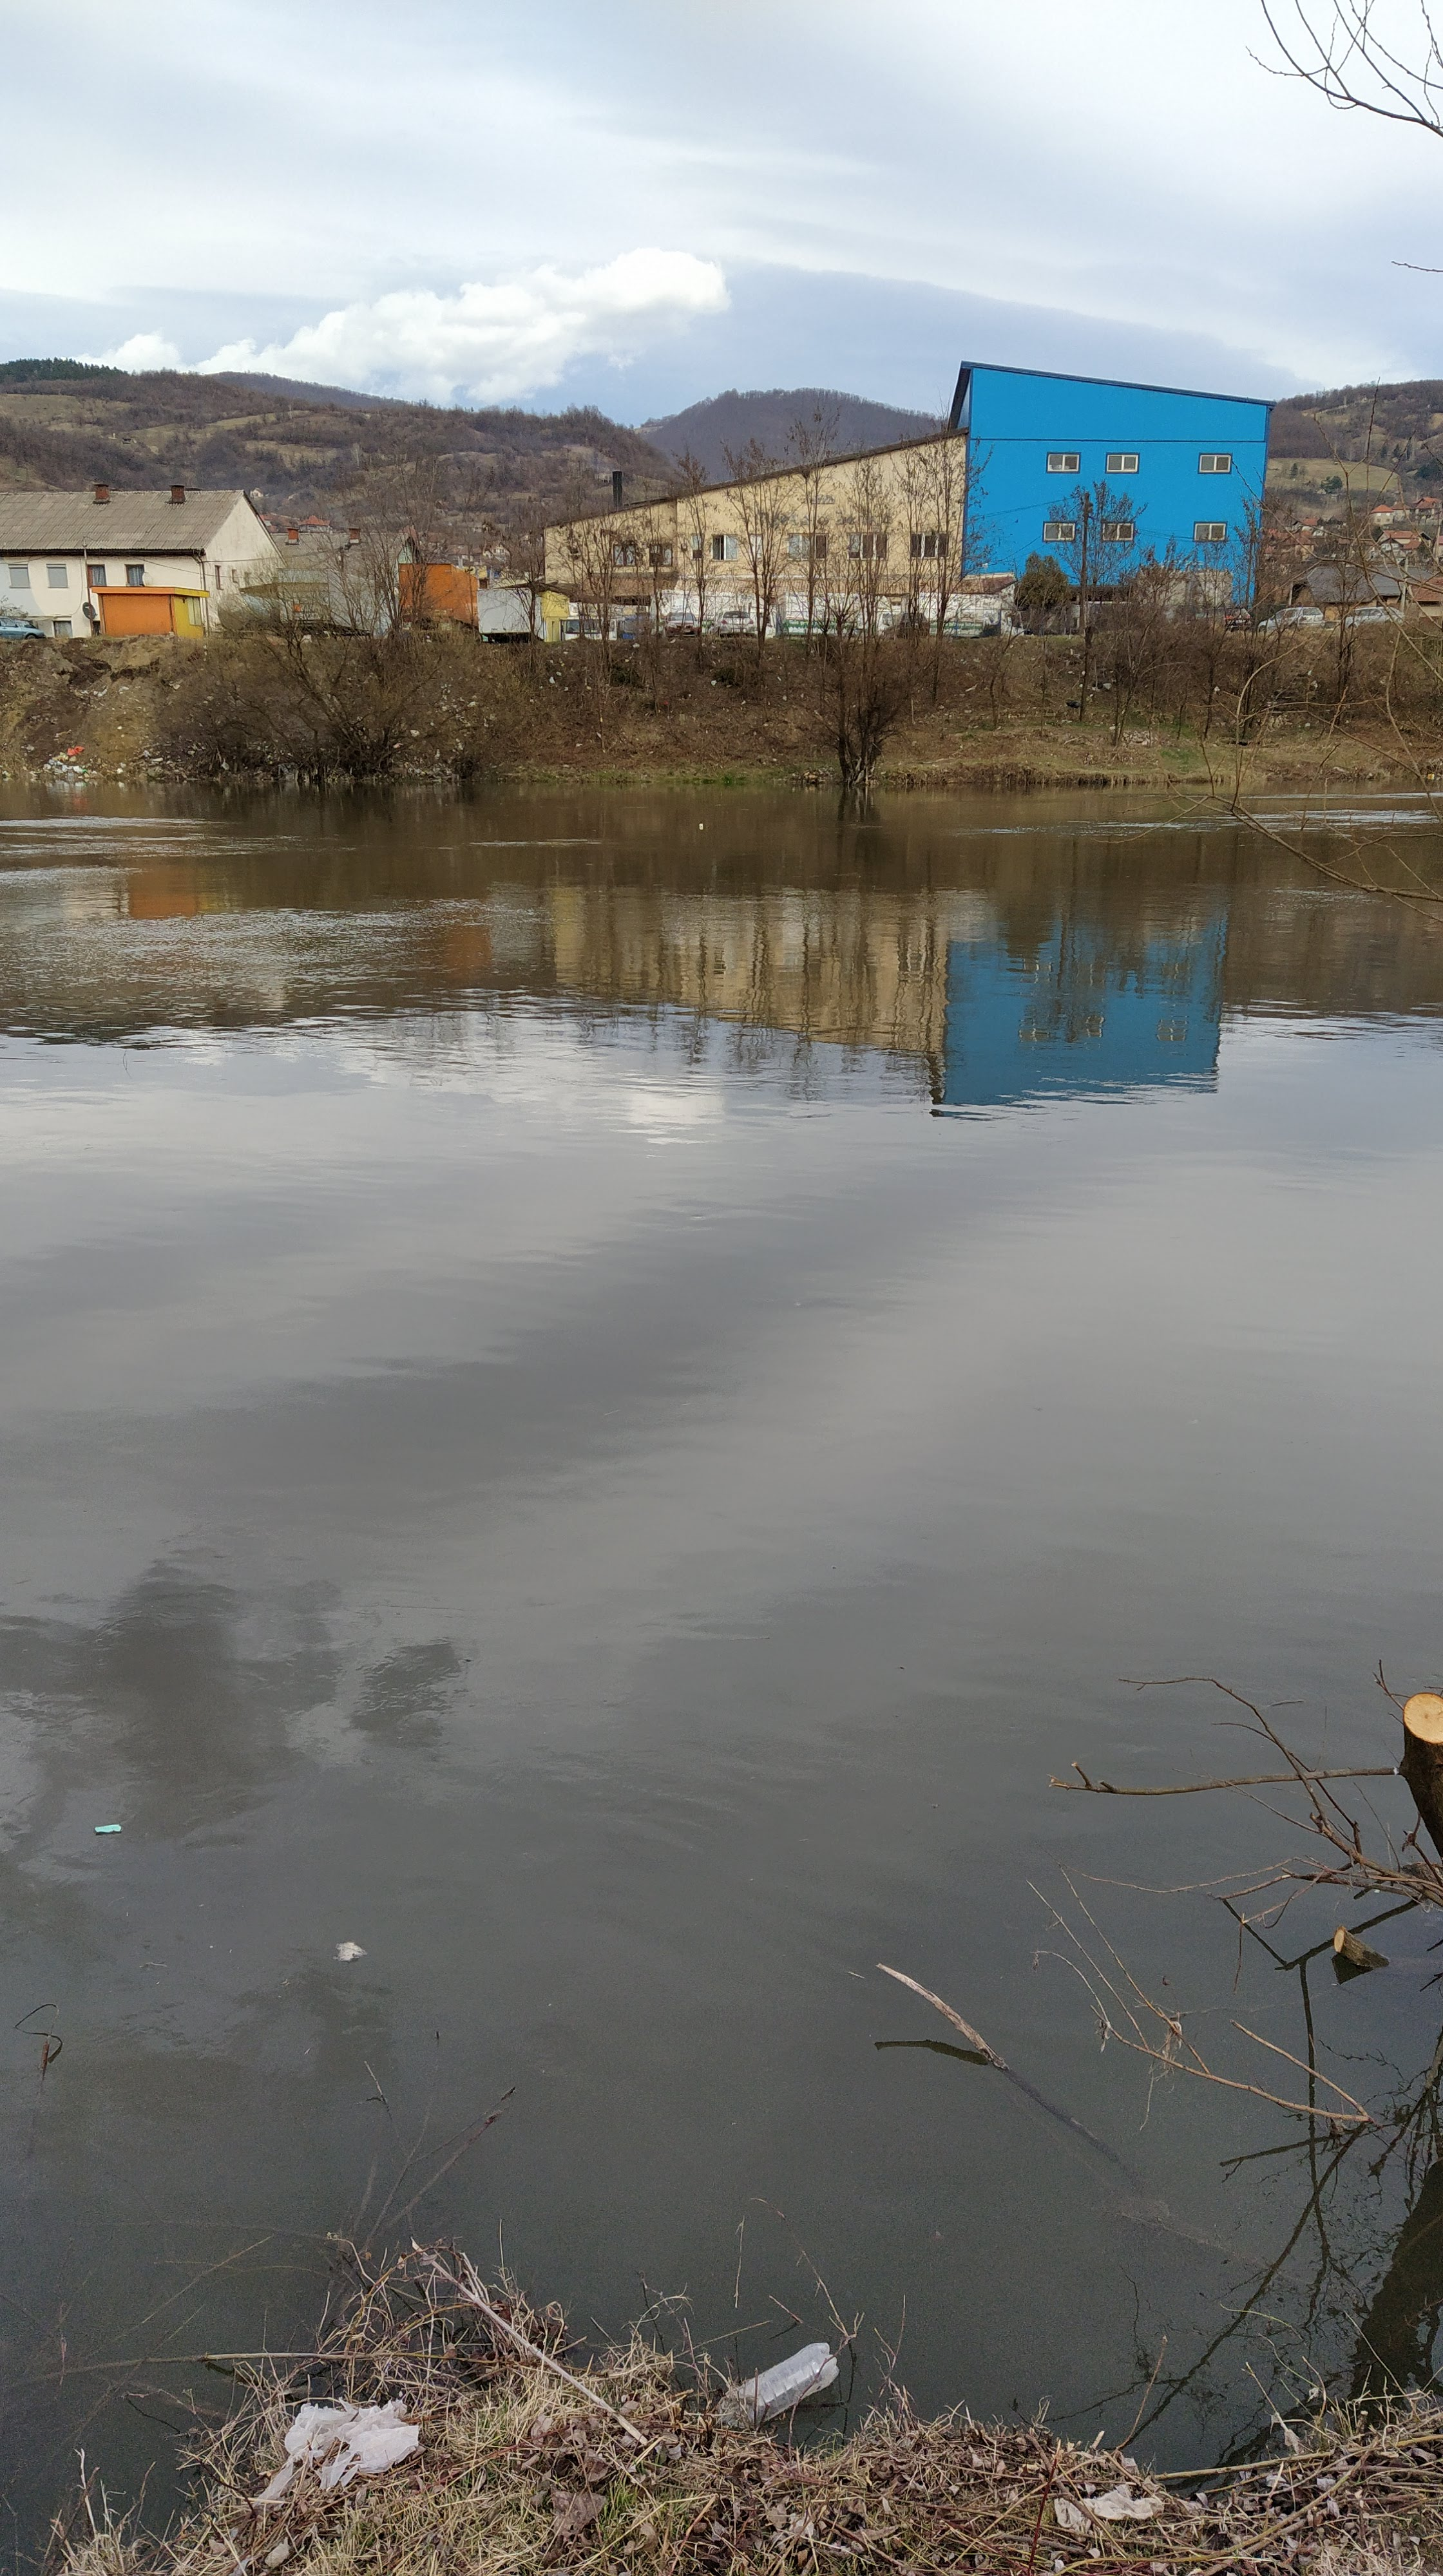Plastic Bottle: (715, 2341, 839, 2427), (699, 823, 703, 828)
